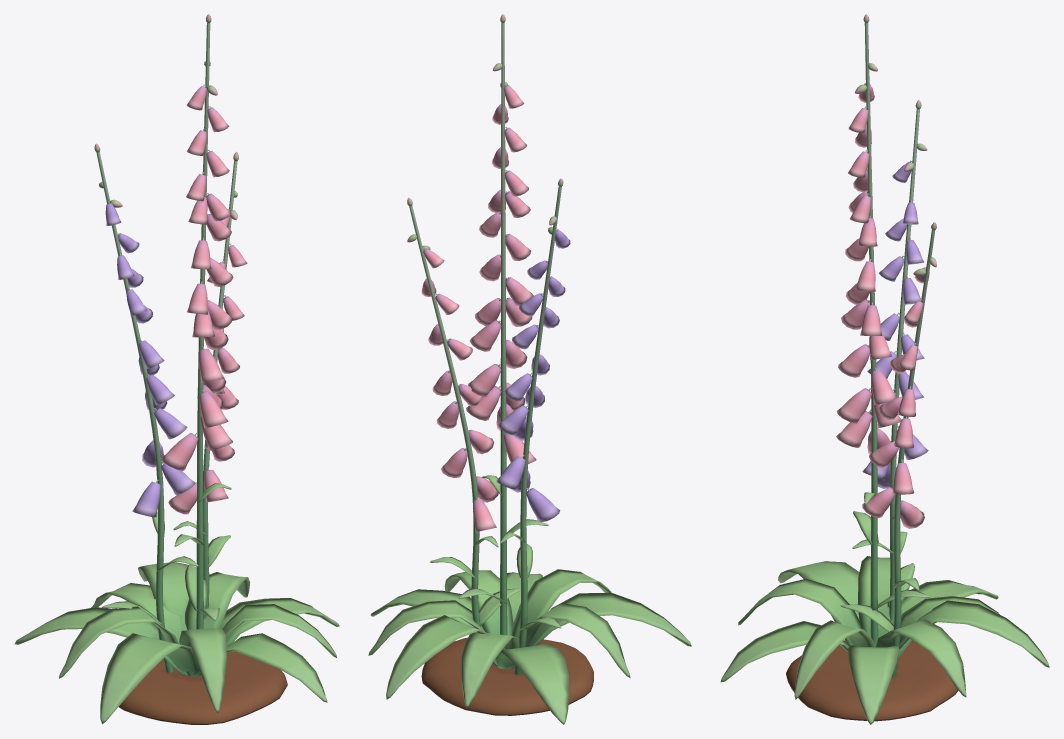
File: tallflower.glb
3 renders of one model, left to right at view 1: azimuth 30°, elevation 25°; view 2: azimuth 150°, elevation 25°; view 3: azimuth 270°, elevation 25°, orthographic. The views are drawn at different scales.
Parts seen in each view (by area): view 1: foxglove_body; view 2: foxglove_body; view 3: foxglove_body.
Part boxes in pixels (x1,y1,x2,y2): foxglove_body: [14, 14, 339, 724]; foxglove_body: [368, 14, 691, 724]; foxglove_body: [720, 14, 1049, 724].
Bounding box in the file's own units: 0.5339 × 1.21 × 0.5379.
1 material, 1 textured.
